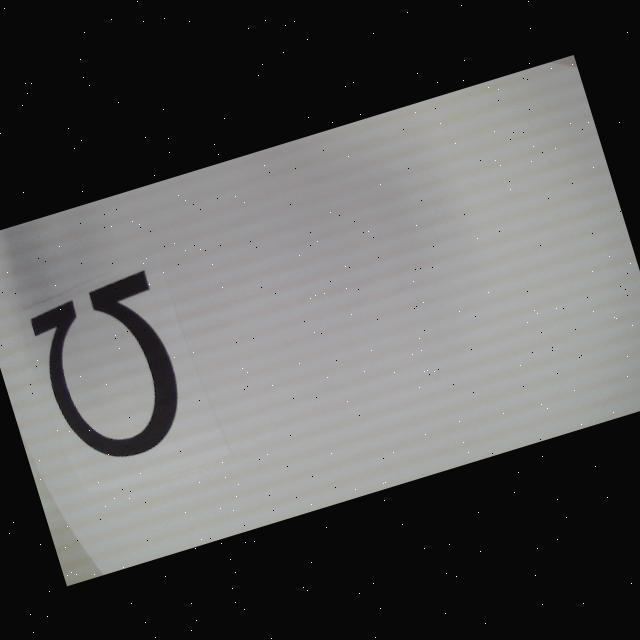OMEGA: (25, 269, 196, 472)
